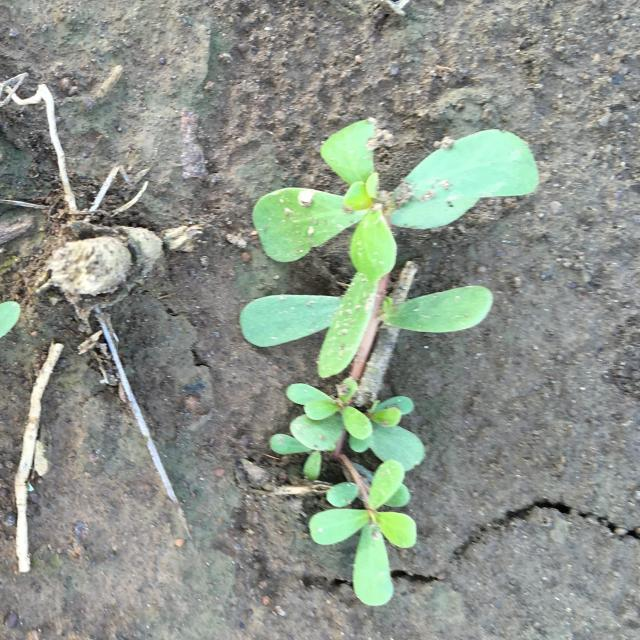Purslane: (240, 119, 538, 605)
